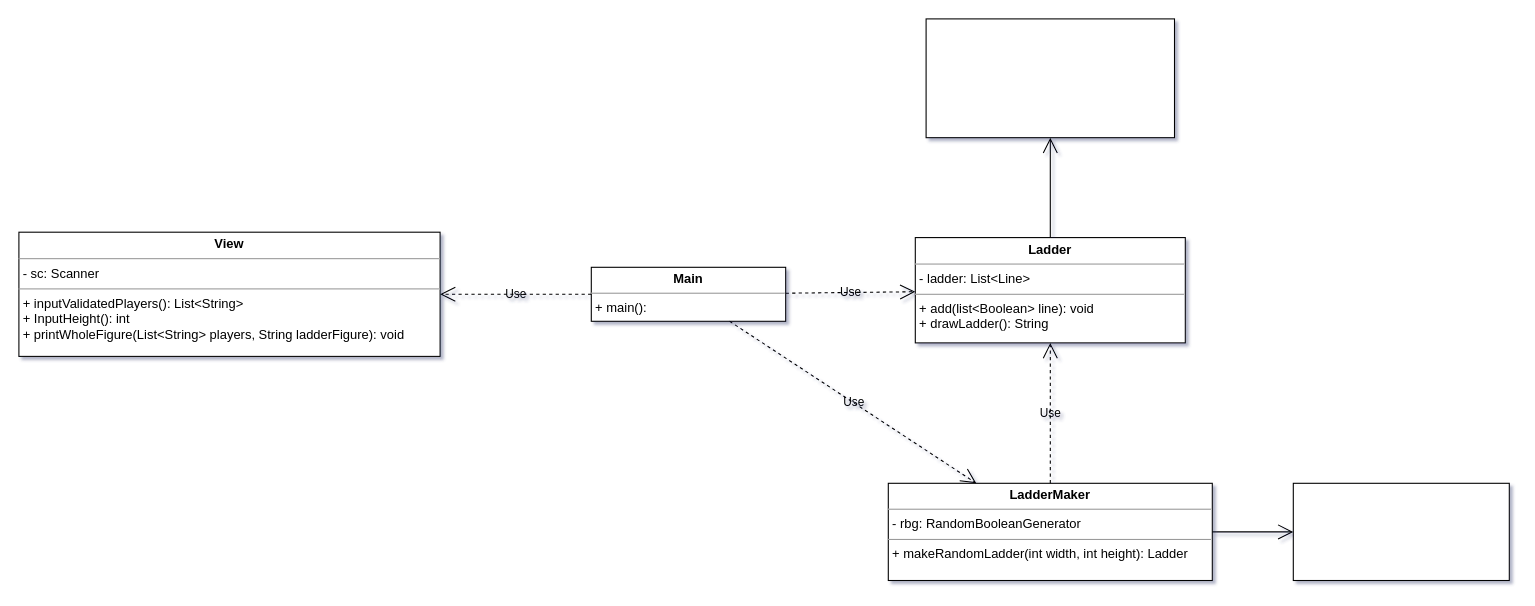
Some shapes in this 1535 by 606 pixel diagram are drawn without their labels. Here are the shapes that lost their labels. From the top down, the centre of each, then its label:
At point 1049,78: "Line - line: List<Boolean> + Line(List<Boolean> line): void + drawLine(): String".
At point 1400,531: "RandomBooleanGenerator - rd: Random + generate(): List<Boolean>".
